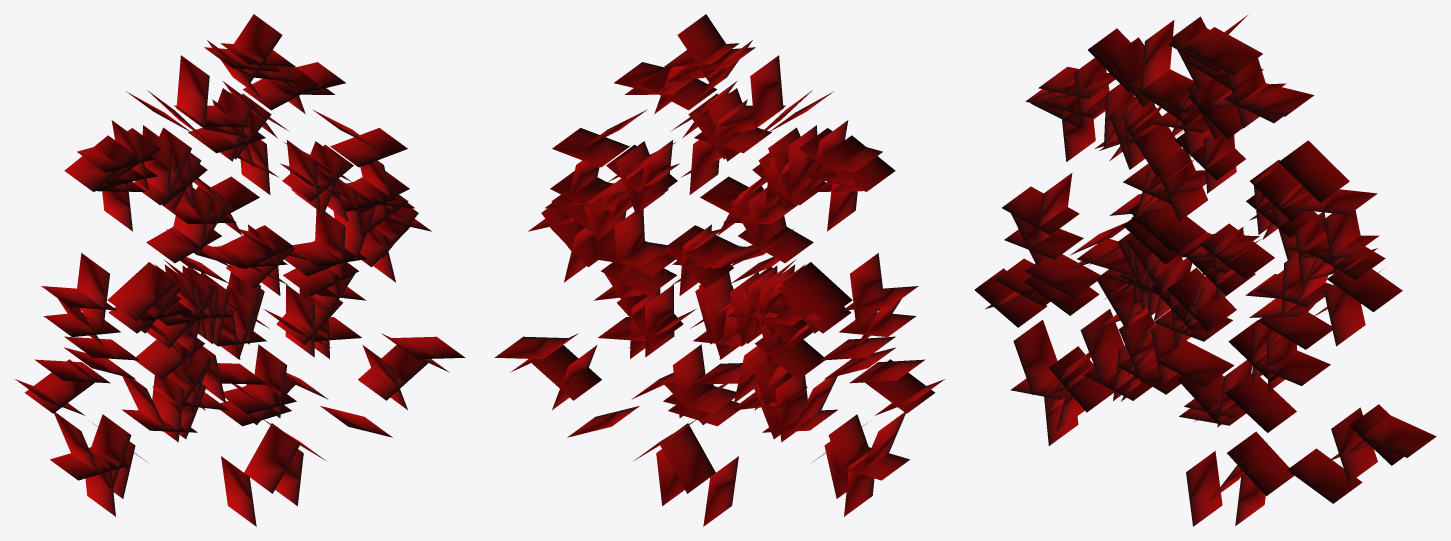
The model's file is Grass_Sparce_V2.fbx.
The picture shows the model from 3 angles, left to right: view 1: azimuth 30°, elevation 25°; view 2: azimuth 150°, elevation 25°; view 3: azimuth 330°, elevation 25°; orthographic projection. The views are drawn at different scales.
Parts seen in each view (by area): view 1: Plane.089; view 2: Plane.089; view 3: Plane.089.
Part boxes in pixels (x1=…): Plane.089: x1=15, y1=14, x2=465, y2=526; Plane.089: x1=494, y1=14, x2=944, y2=526; Plane.089: x1=974, y1=14, x2=1436, y2=526.
Size of the model in its own units: 5.49 by 6.03 by 0.648.
